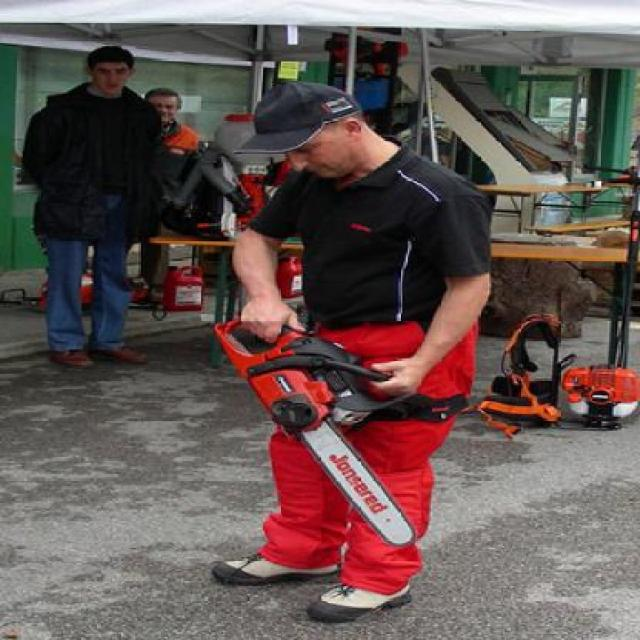Chainsaw: (203, 311, 415, 546)
